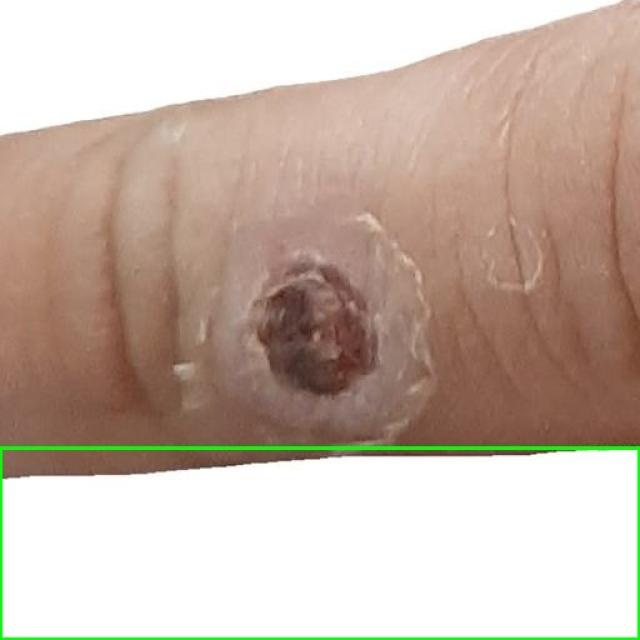Scabies: (0, 448, 639, 639)
